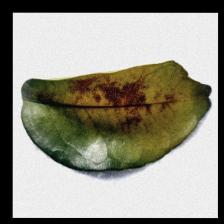canker: (59, 73, 177, 131)
